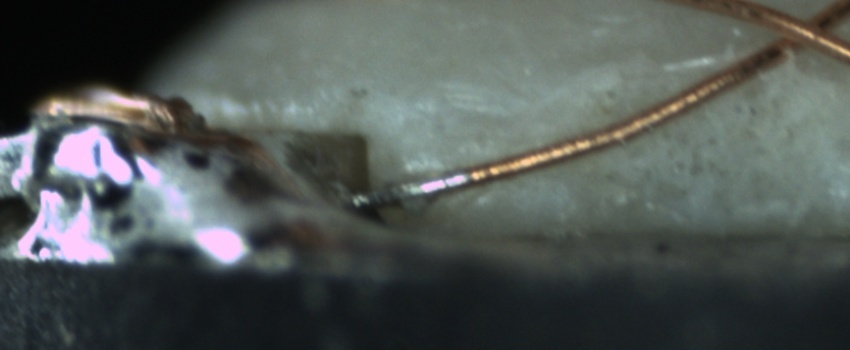CL: (753, 2, 844, 65)
TE: (26, 70, 212, 137)
TS: (343, 168, 469, 210)
